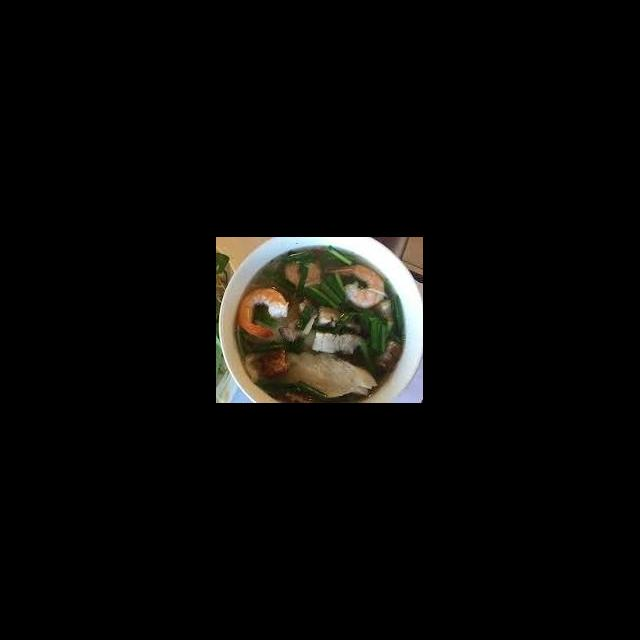ca: (282, 346, 383, 401)
tom: (322, 261, 390, 310), (235, 284, 292, 341)
